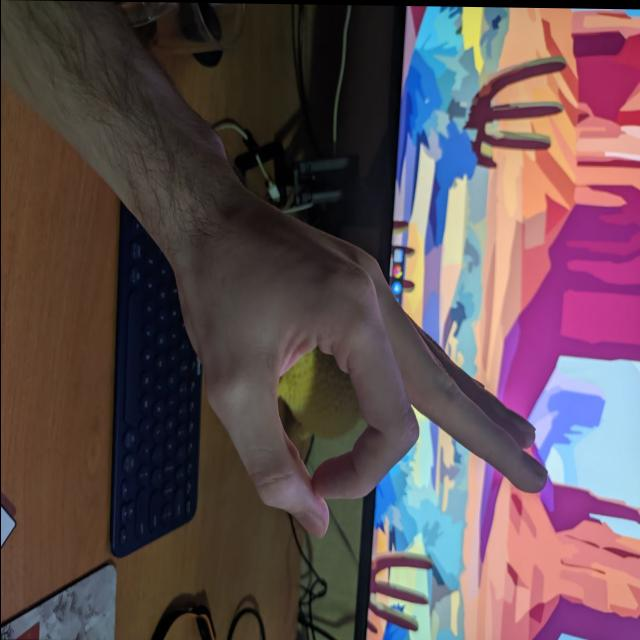o: (217, 196, 575, 575)
